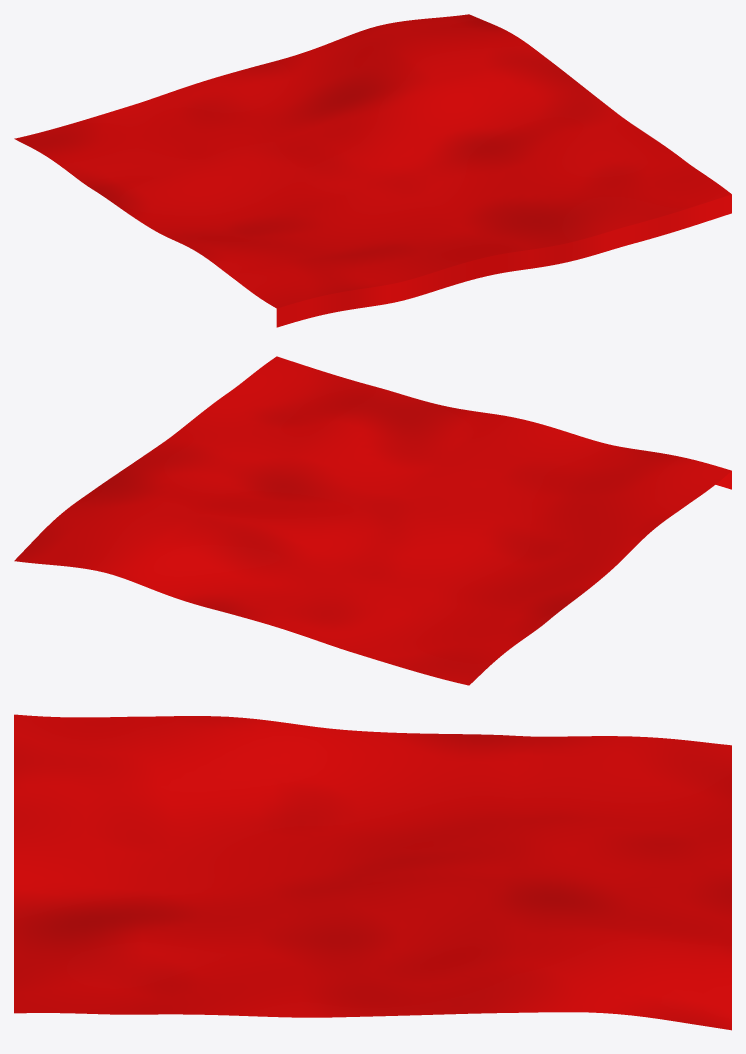
File: terrain_2_0.glb
The picture shows the model from 3 angles, top to bottom: view 1: azimuth 30°, elevation 25°; view 2: azimuth 150°, elevation 25°; view 3: azimuth 270°, elevation 25°; orthographic projection. The views are drawn at different scales.
Parts seen in each view (by area): view 1: terrain_2_0.0, terrain_2_0.1; view 2: terrain_2_0.0; view 3: terrain_2_0.0.
Part boxes in pixels (<box>): terrain_2_0.0: <box>14,14,731,308</box>; terrain_2_0.1: <box>276,194,731,327</box>; terrain_2_0.0: <box>14,356,731,685</box>; terrain_2_0.0: <box>14,714,731,1030</box>.
Size of the model in its own units: 50 by 3.77 by 50.
